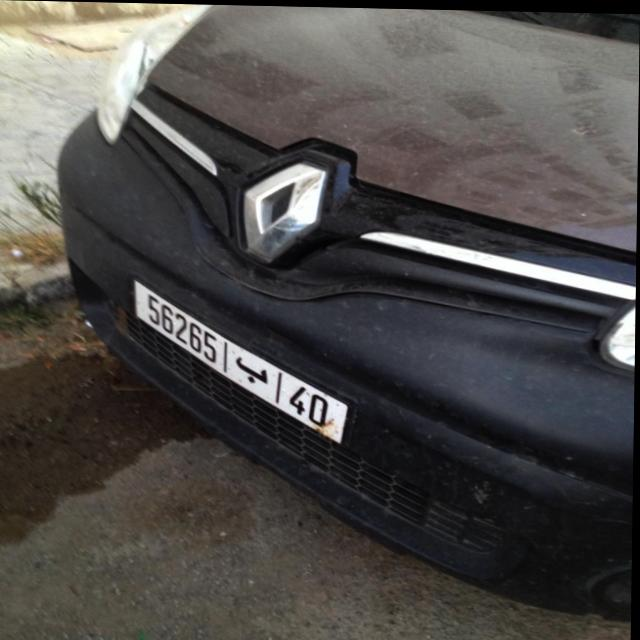License-Plate: (135, 281, 349, 441)
